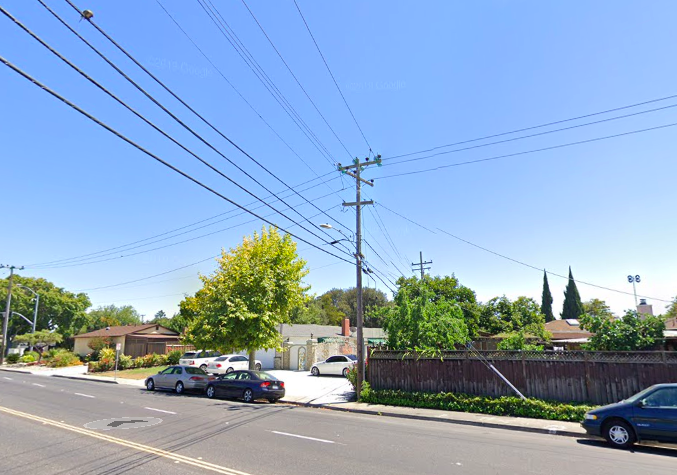tree: (179, 223, 318, 373)
utility_pole: (327, 143, 386, 216)
